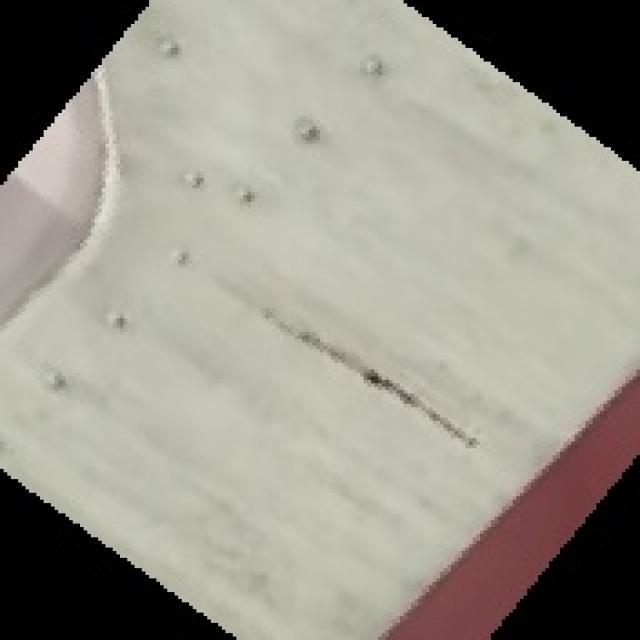crack: (219, 268, 568, 484)
